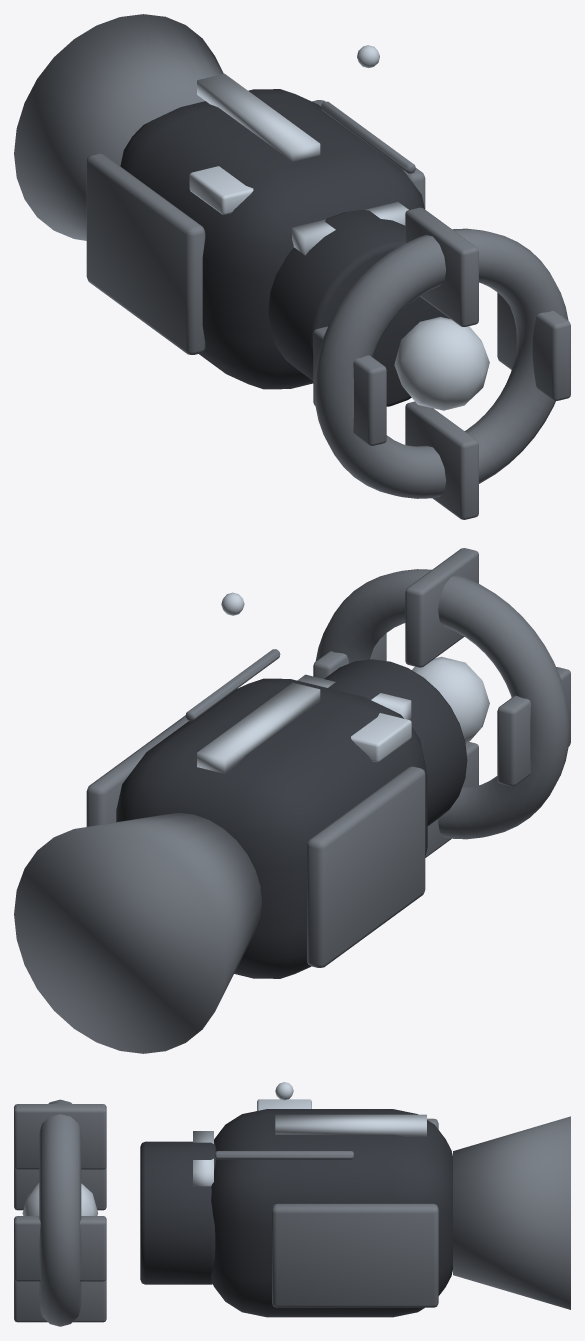
Rendered from weapon_drone_vortex.glb.
3 renders of one model, top to bottom at view 1: azimuth 30°, elevation 25°; view 2: azimuth 150°, elevation 25°; view 3: azimuth 270°, elevation 25°, orthographic. The views are drawn at different scales.
Parts seen in each view (by area): view 1: weapon_drone_vortex; view 2: weapon_drone_vortex; view 3: weapon_drone_vortex.
Part boxes in pixels (bbox=[...]): weapon_drone_vortex: bbox=[14, 14, 570, 519]; weapon_drone_vortex: bbox=[14, 548, 570, 1053]; weapon_drone_vortex: bbox=[14, 1082, 570, 1326].
Bounding box in the file's own units: 0.54 × 0.69 × 1.32.
